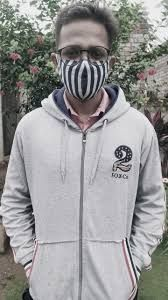with-mask: (47, 8, 118, 102)
